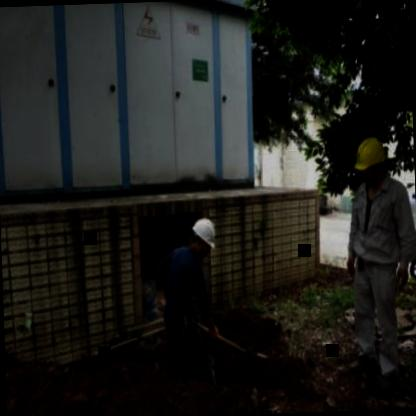helmet: (352, 132, 391, 194), (188, 216, 218, 258)
